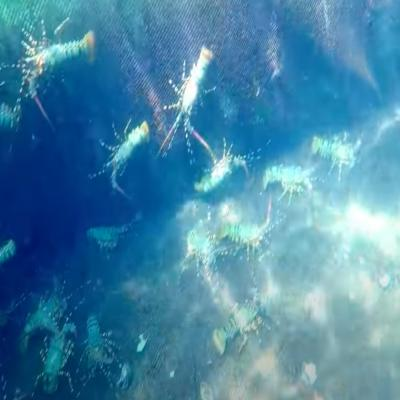lobster: (26, 32, 92, 86), (220, 297, 267, 349), (110, 116, 150, 176), (179, 52, 211, 125), (28, 288, 59, 336), (318, 132, 358, 168), (43, 331, 67, 390), (268, 163, 310, 195), (226, 216, 269, 247), (200, 156, 235, 194), (85, 318, 109, 372), (88, 219, 128, 250)
